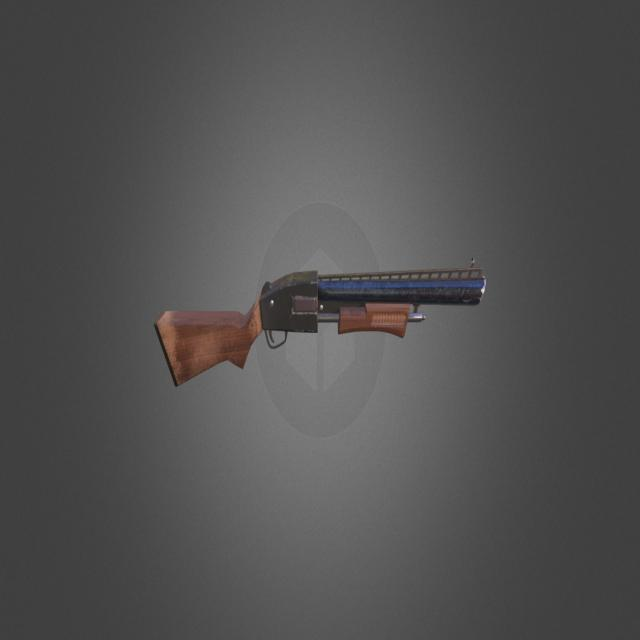ShotGun: (156, 261, 487, 388)
